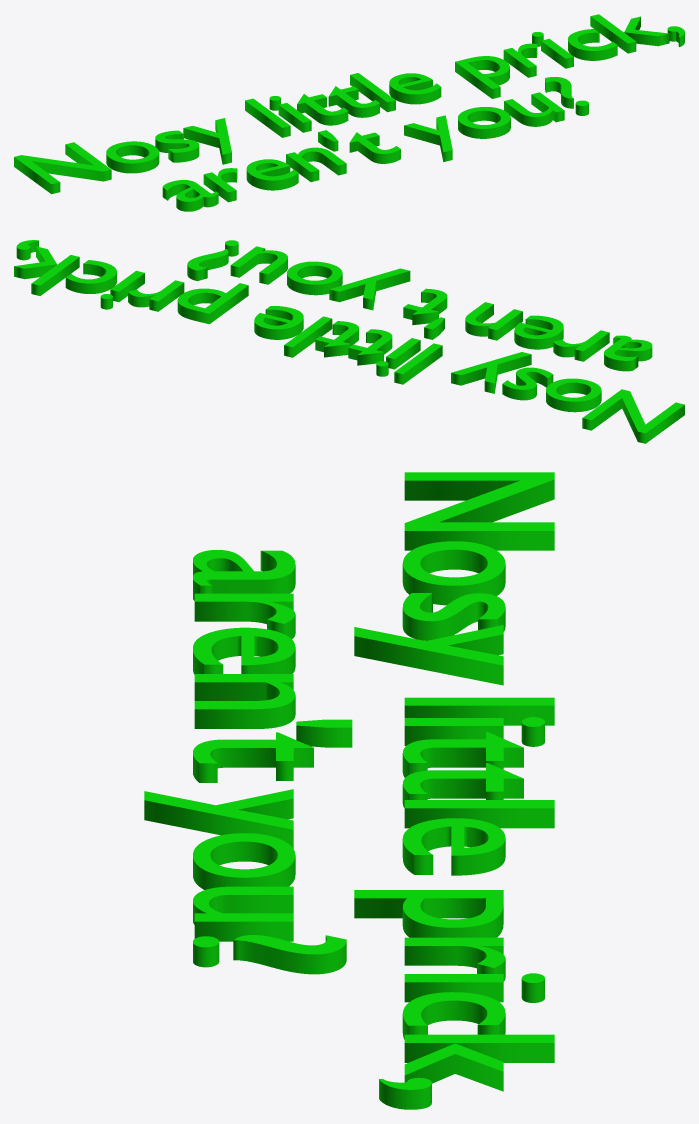
3 renders of one model, top to bottom at view 1: azimuth 30°, elevation 25°; view 2: azimuth 150°, elevation 25°; view 3: azimuth 270°, elevation 25°, orthographic. The views are drawn at different scales.
Parts seen in each view (by area): view 1: Text, Text.001; view 2: Text, Text.001; view 3: Text, Text.001.
Part boxes in pixels (x1,y1,x2,y2): Text: (14, 14, 684, 194); Text.001: (162, 77, 588, 211); Text: (14, 240, 684, 443); Text.001: (187, 240, 652, 371); Text: (354, 472, 554, 1109); Text.001: (144, 550, 352, 974).
Size of the model in its own units: 665 by 10 by 187.
